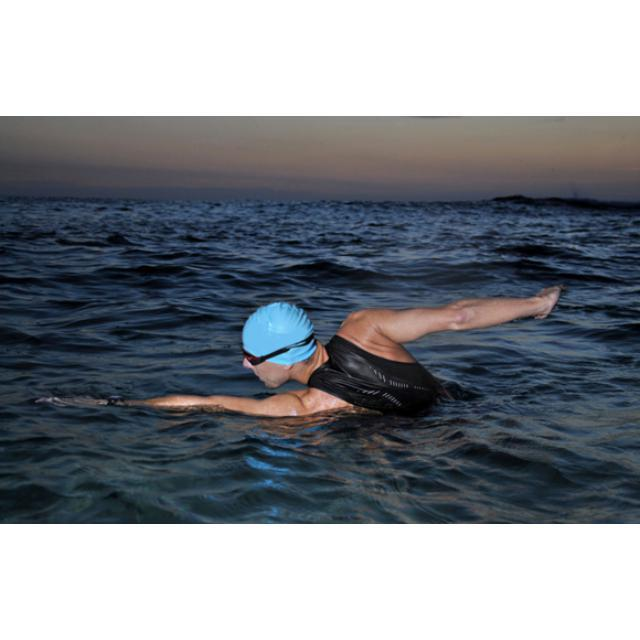human: (35, 281, 569, 416)
